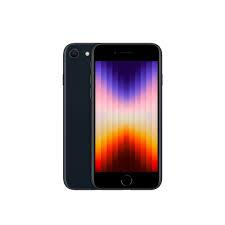Smartphone: (92, 42, 163, 191), (63, 39, 104, 188)
